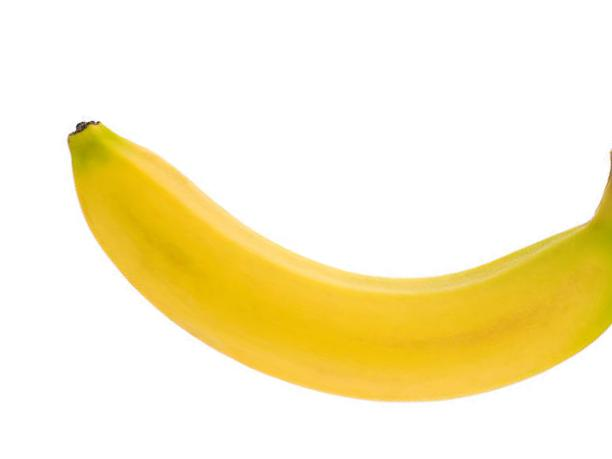banana: (66, 118, 612, 406)
